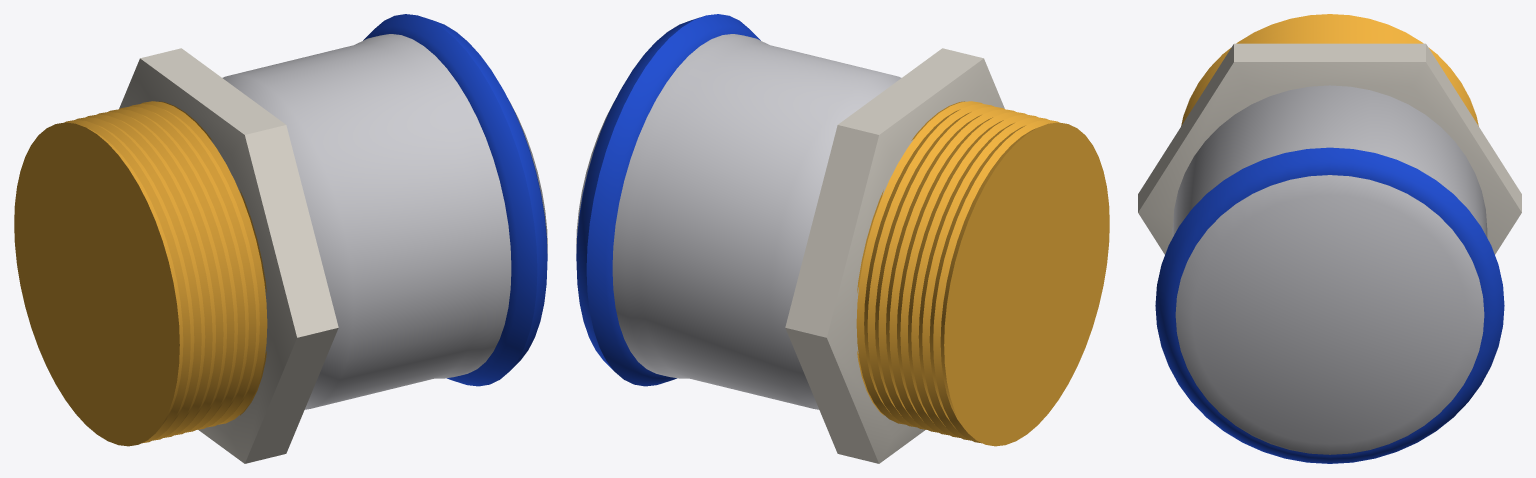
The model's file is fitting_adp_35x114_M.glb.
The picture shows the model from 3 angles, left to right: view 1: azimuth 30°, elevation 25°; view 2: azimuth 150°, elevation 25°; view 3: azimuth 270°, elevation 25°; orthographic projection. The views are drawn at different scales.
Parts seen in each view (by area): view 1: резьба НР, раструб, шестигранник переходника, кольцо пресс; view 2: резьба НР, раструб, шестигранник переходника, кольцо пресс; view 3: раструб, шестигранник переходника, кольцо пресс, резьба НР.
Part boxes in pixels (x1,y1,x2,y2): резьба НР: (14,101,267,446); раструб: (222,34,547,409); шестигранник переходника: (119,48,338,463); кольцо пресс: (363,14,547,386); резьба НР: (856,101,1109,446); раструб: (576,34,901,409); шестигранник переходника: (785,48,1004,463); кольцо пресс: (576,14,760,386); раструб: (1172,85,1487,454); шестигранник переходника: (1138,43,1521,254); кольцо пресс: (1155,147,1504,463); резьба НР: (1181,14,1478,126).
Bounding box in the file's own units: 0.055 × 0.0483 × 0.0531.
